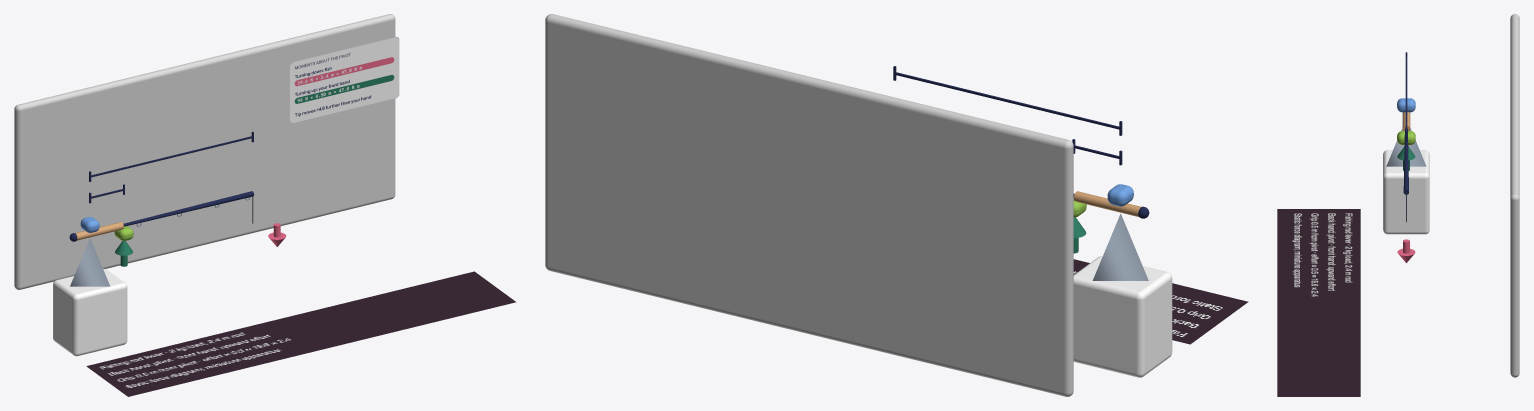
The model's file is fish.glb.
3 views of the same model, side by side, from view 1: azimuth 30°, elevation 25°; view 2: azimuth 150°, elevation 25°; view 3: azimuth 270°, elevation 25° (orthographic). The views are drawn at different scales.
Visible parts, largest first — view 1: fish_authored_teaching_model, Scale_and_credit; view 2: fish_authored_teaching_model, Scale_and_credit; view 3: Scale_and_credit, fish_authored_teaching_model.
Boxes of the visible parts, <box> form: fish_authored_teaching_model: <box>14,14,399,356</box>; Scale_and_credit: <box>86,271,516,396</box>; fish_authored_teaching_model: <box>545,14,1172,396</box>; Scale_and_credit: <box>1073,259,1248,344</box>; Scale_and_credit: <box>1277,209,1360,396</box>; fish_authored_teaching_model: <box>1383,14,1519,377</box>.
Size of the model in its own units: 0.573 by 0.285 by 0.3124.
14 materials, 2 textured.
